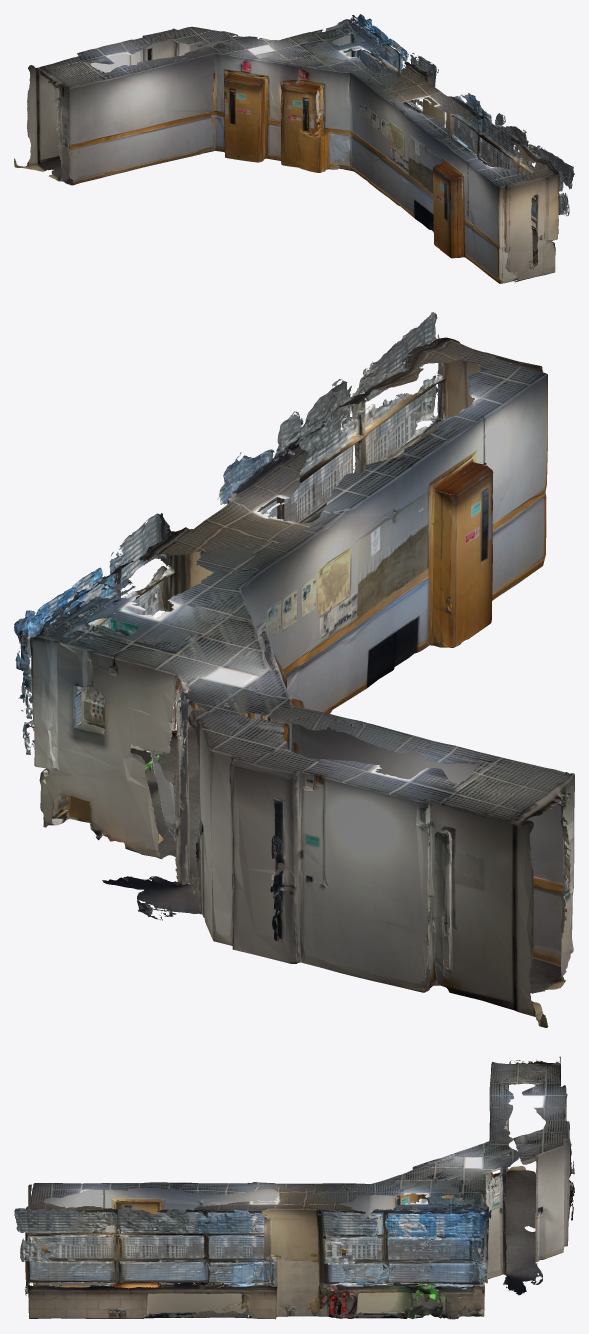
File: M210_corridor_LOW_POLY.fbx
3 renders of one model, top to bottom at view 1: azimuth 30°, elevation 25°; view 2: azimuth 150°, elevation 25°; view 3: azimuth 270°, elevation 25°, orthographic. The views are drawn at different scales.
Visible parts, largest first — view 1: M210_corridor_LOW_POLY; view 2: M210_corridor_LOW_POLY; view 3: M210_corridor_LOW_POLY.
Part boxes in pixels (box(x1,y1,x2,y2)): M210_corridor_LOW_POLY: box(14, 14, 574, 283); M210_corridor_LOW_POLY: box(14, 312, 574, 1027); M210_corridor_LOW_POLY: box(14, 1056, 574, 1319).
Size of the model in its own units: 815 by 285 by 1150.
1 material, 1 textured.
